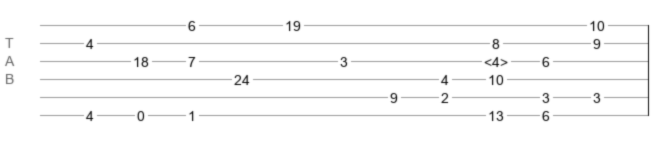0: (137, 108, 145, 118)
1: (188, 108, 196, 118)
10: (488, 72, 504, 82), (589, 18, 605, 28)
13: (488, 108, 504, 118)
18: (133, 54, 149, 64)
19: (285, 18, 301, 28)
2: (441, 90, 449, 100)
24: (234, 72, 250, 82)
3: (340, 54, 348, 64), (542, 90, 550, 100), (593, 90, 601, 100)
4: (86, 108, 94, 118), (86, 36, 94, 46), (441, 72, 449, 82)
6: (188, 18, 196, 28), (542, 54, 550, 64), (542, 108, 550, 118)
7: (188, 54, 196, 64)
8: (492, 36, 500, 46)
9: (390, 90, 398, 100), (593, 36, 601, 46)
harmonic: (484, 54, 508, 64)
